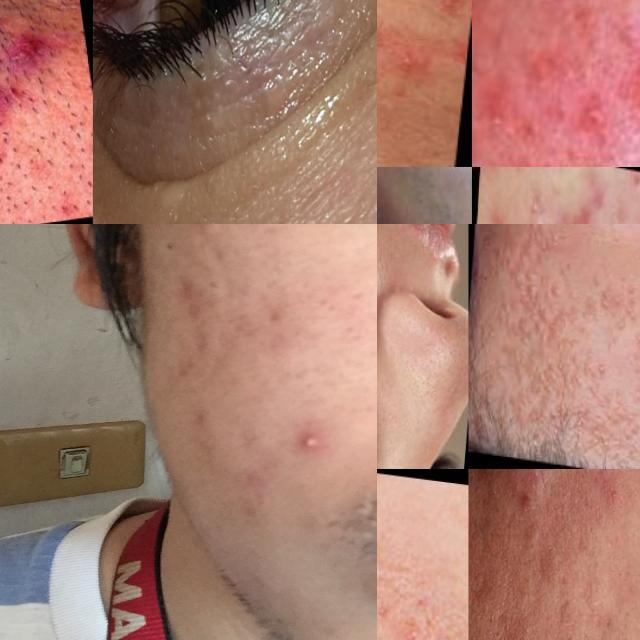comedone: (512, 319, 598, 384), (502, 372, 588, 436), (377, 493, 395, 588), (527, 182, 550, 224), (619, 0, 640, 17)
cystic: (469, 469, 576, 506)
flat_wart: (499, 268, 582, 329), (586, 379, 640, 466), (481, 224, 568, 272), (584, 278, 640, 331)
pustule: (391, 30, 422, 81), (472, 104, 503, 142), (629, 87, 640, 143)
syringoma: (93, 194, 126, 224)
